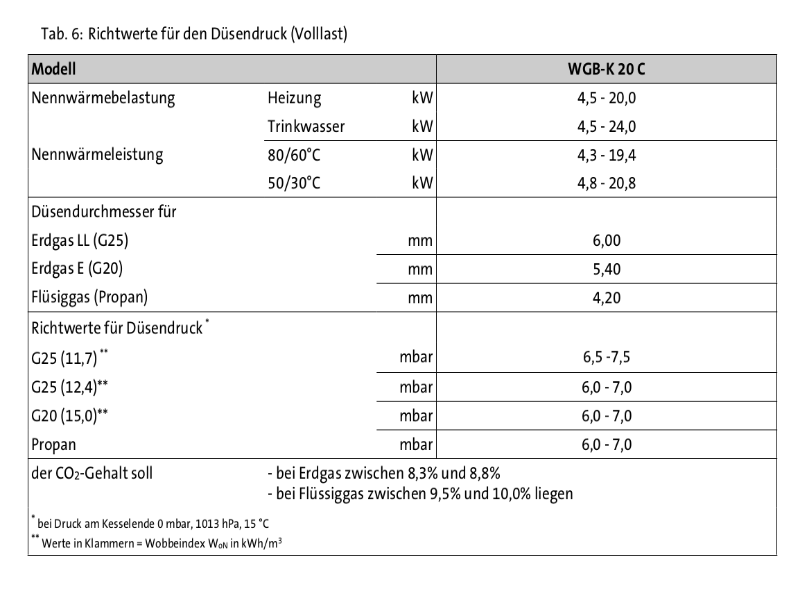border: (21, 45, 790, 565)
cell: (265, 463, 582, 503), (28, 511, 290, 554), (29, 318, 213, 341), (30, 200, 186, 221), (29, 88, 179, 109), (29, 144, 166, 166), (29, 286, 154, 309), (31, 462, 154, 485), (29, 231, 134, 253), (29, 259, 128, 280), (31, 376, 112, 399), (30, 405, 113, 427), (31, 348, 112, 369), (564, 59, 649, 78), (264, 116, 349, 135), (574, 431, 639, 453), (571, 87, 639, 108), (265, 87, 328, 109), (573, 146, 644, 165), (574, 345, 636, 366), (572, 117, 642, 135), (574, 173, 644, 191), (575, 376, 636, 396), (264, 146, 324, 166), (574, 406, 637, 425), (264, 173, 324, 192), (29, 58, 81, 79), (29, 435, 80, 453), (584, 288, 630, 307), (584, 259, 629, 278), (393, 407, 434, 427), (393, 378, 434, 397), (584, 230, 627, 248), (400, 230, 435, 251), (395, 347, 433, 366), (398, 259, 433, 279), (396, 436, 434, 454), (405, 87, 435, 107), (403, 288, 434, 307), (405, 116, 435, 135), (405, 145, 435, 163), (406, 173, 434, 191)
